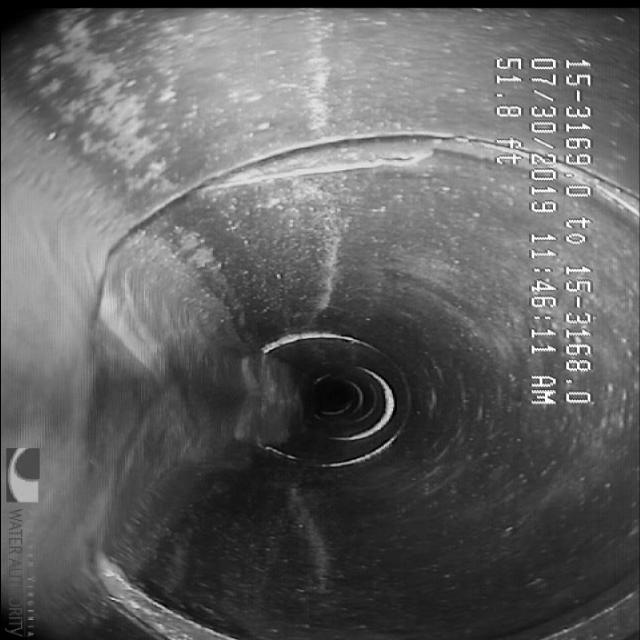Fracture: (224, 134, 454, 211)
